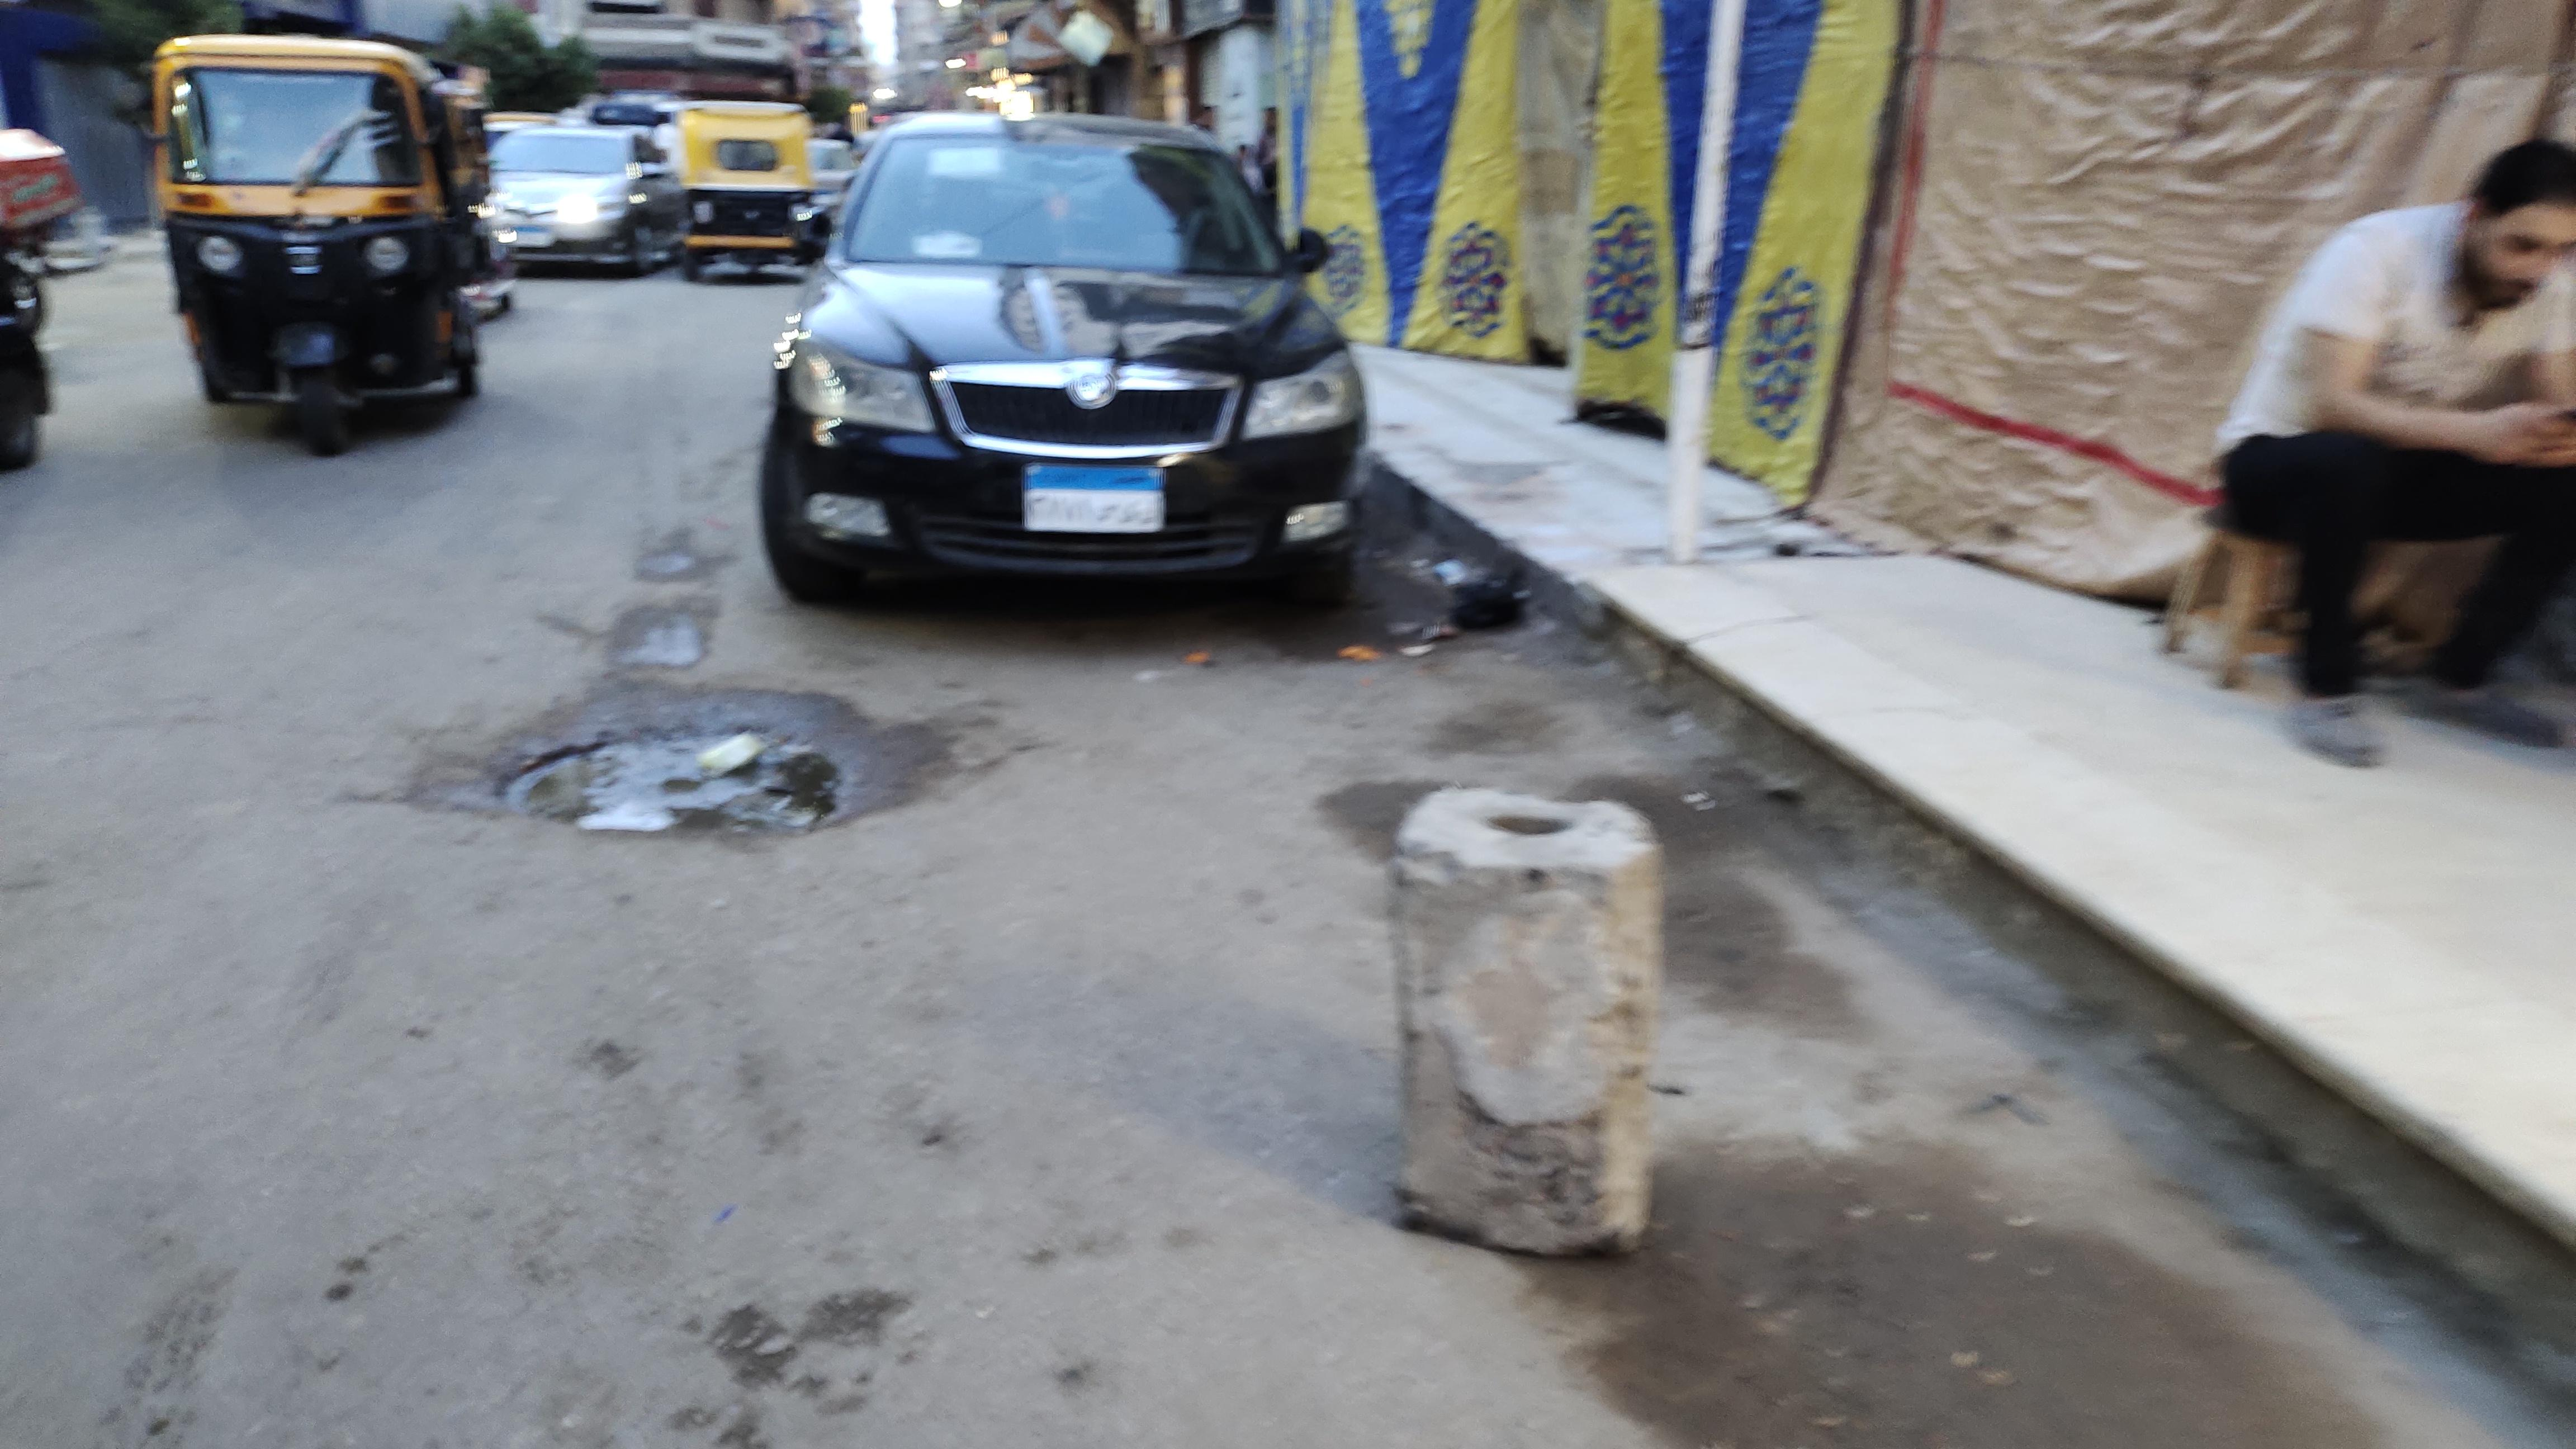plate: (1026, 459, 1169, 550), (503, 216, 557, 254)
